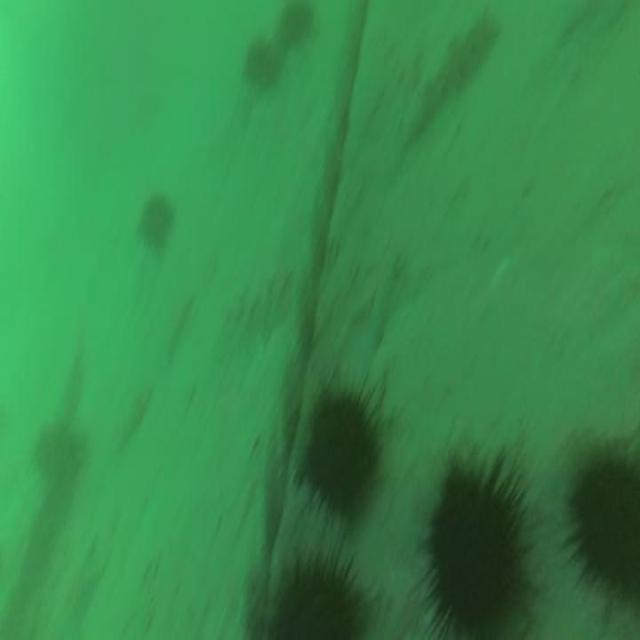echinus: (426, 469, 522, 640), (572, 460, 640, 594), (303, 392, 379, 502), (265, 572, 363, 640), (244, 36, 279, 87), (134, 198, 171, 246), (277, 2, 315, 44)
holothurian: (401, 13, 499, 145)
